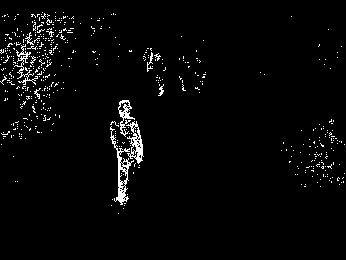person: (109, 100, 143, 204)
